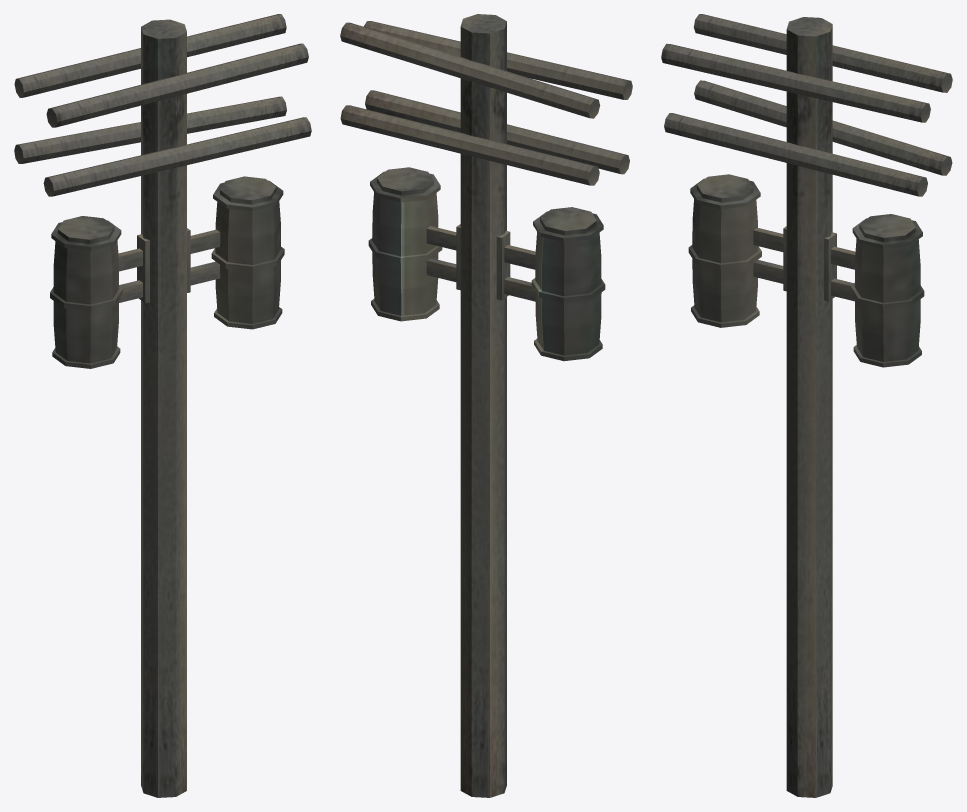
File: UtilityPoleTest.fbx
3 renders of one model, left to right at view 1: azimuth 30°, elevation 25°; view 2: azimuth 150°, elevation 25°; view 3: azimuth 330°, elevation 25°, orthographic.
Parts seen in each view (by area): view 1: Cylinder.016, Cylinder.021, Cylinder.022, Cylinder.019, Cylinder.017, Cylinder.018, Cube.003, Cube.004, Cube.005; view 2: Cylinder.016, Cylinder.021, Cylinder.017, Cylinder.018, Cylinder.022, Cylinder.019, Cube.003, Cube.004, Cube.005; view 3: Cylinder.016, Cylinder.021, Cylinder.019, Cylinder.022, Cylinder.018, Cylinder.017, Cube.003, Cube.004, Cube.005.
Boxes of the visible parts, box(x1,y1,x2,y2) form: Cylinder.016: box(141, 19, 186, 797); Cylinder.021: box(50, 176, 284, 368); Cylinder.022: box(43, 117, 311, 196); Cylinder.019: box(46, 43, 308, 127); Cylinder.017: box(14, 14, 286, 97); Cylinder.018: box(14, 96, 286, 163); Cube.003: box(118, 229, 220, 271); Cube.004: box(119, 261, 220, 302); Cube.005: box(137, 228, 190, 303); Cylinder.016: box(460, 14, 506, 797); Cylinder.021: box(368, 167, 605, 361); Cylinder.017: box(340, 22, 600, 118); Cylinder.018: box(340, 105, 599, 185); Cylinder.022: box(365, 90, 629, 174); Cylinder.019: box(363, 21, 632, 99); Cube.003: box(426, 226, 535, 269); Cube.004: box(426, 258, 535, 301); Cube.005: box(456, 224, 510, 300); Cylinder.016: box(786, 17, 832, 797); Cylinder.021: box(688, 174, 924, 367); Cylinder.019: box(661, 43, 930, 122); Cylinder.022: box(664, 113, 927, 196); Cylinder.018: box(694, 80, 952, 175); Cylinder.017: box(693, 14, 952, 92); Cube.003: box(753, 227, 855, 269); Cube.004: box(753, 260, 854, 301); Cube.005: box(783, 226, 836, 301).
Bounding box in the file's own units: 269 × 763 × 79.86.
Materials: 1 (1 with a texture image).
